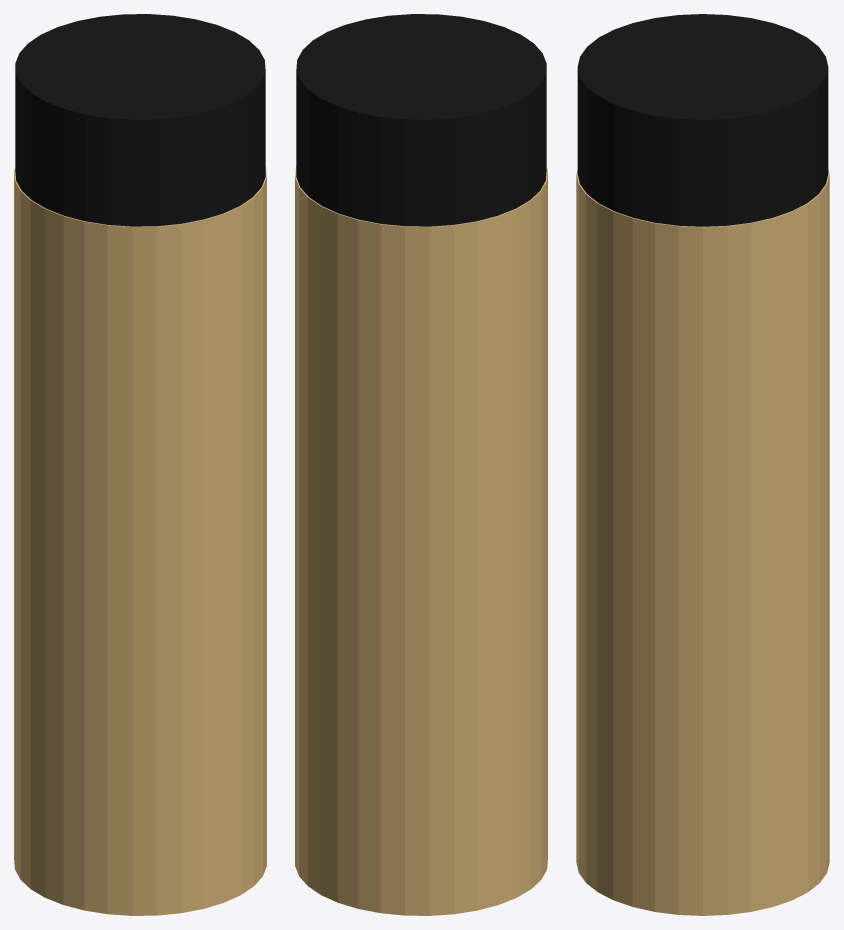
The model's file is ship_real_1_funnel.fbx.
3 views of the same model, side by side, from view 1: azimuth 30°, elevation 25°; view 2: azimuth 150°, elevation 25°; view 3: azimuth 270°, elevation 25° (orthographic).
Visible parts, largest first — view 1: Cylinder.006; view 2: Cylinder.006; view 3: Cylinder.006.
Part boxes in pixels (bbox=[...]): Cylinder.006: bbox=[14, 14, 266, 915]; Cylinder.006: bbox=[295, 14, 547, 915]; Cylinder.006: bbox=[576, 14, 829, 915].
Bounding box in the file's own units: 0.2 × 0.6931 × 0.2.
